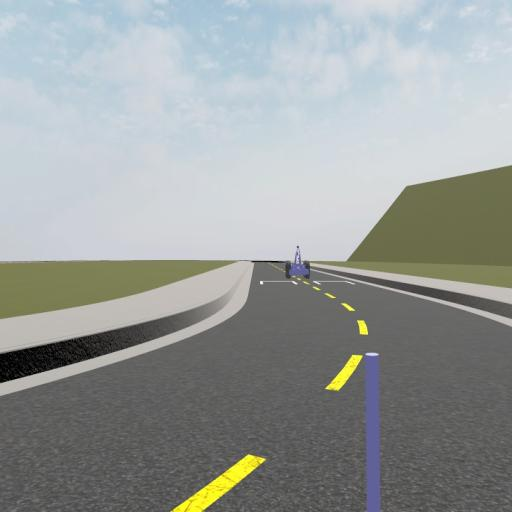ERP-42: (284, 244, 311, 281)
